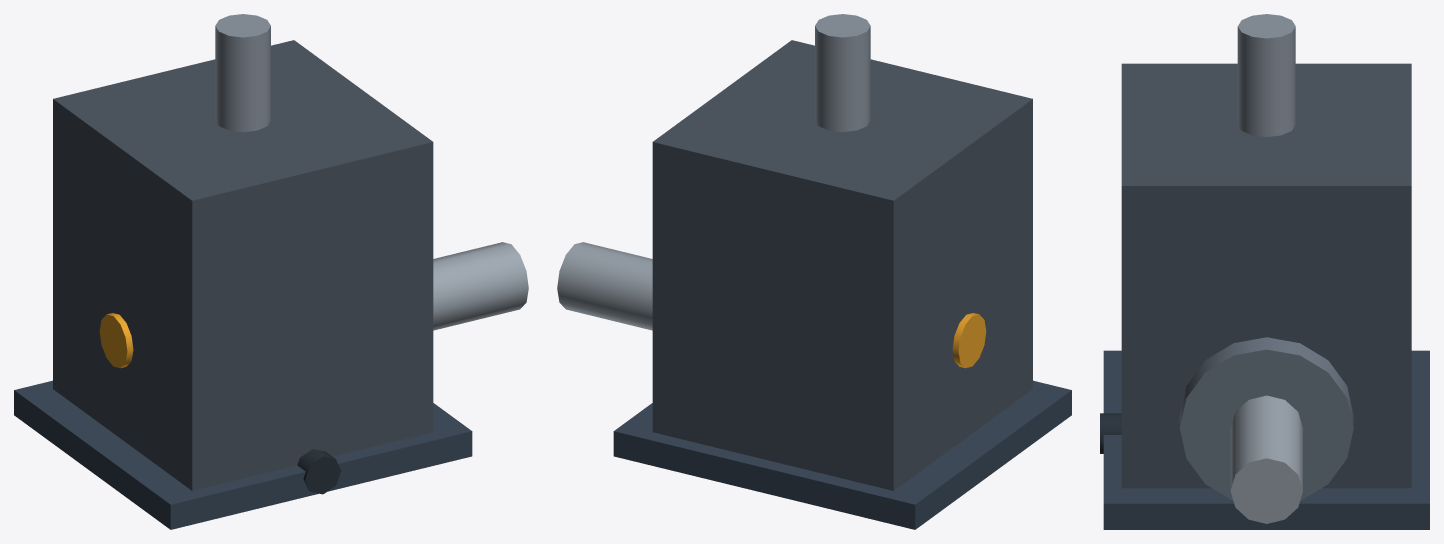
File: reducer.glb
The picture shows the model from 3 angles, left to right: view 1: azimuth 30°, elevation 25°; view 2: azimuth 150°, elevation 25°; view 3: azimuth 270°, elevation 25°; orthographic projection. The views are drawn at different scales.
Size of the model in its own units: 0.695 by 0.65 by 0.455.
